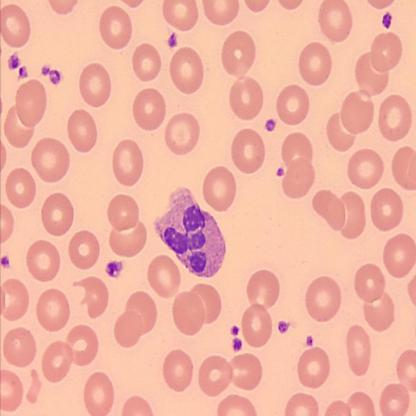Segmented neutrophil: (150, 186, 230, 280)
